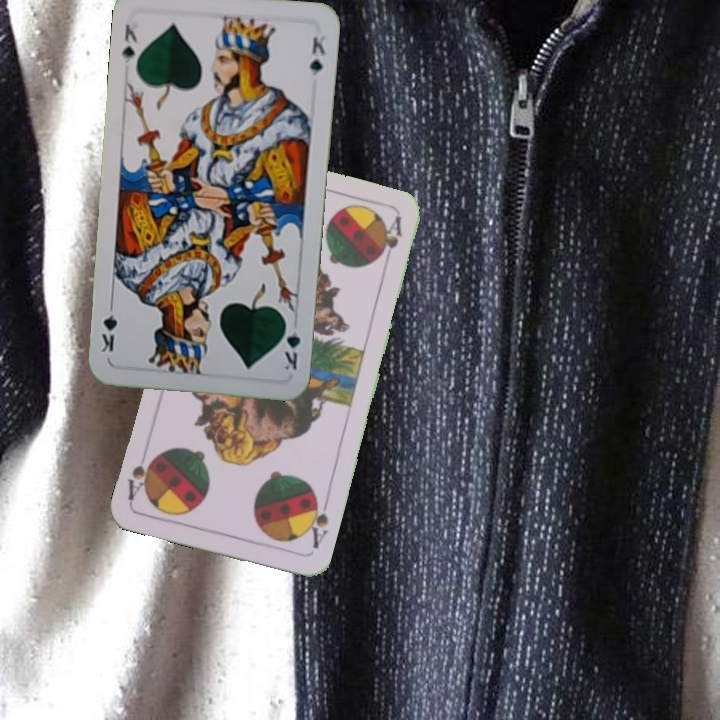GK: (279, 316, 304, 373), (118, 19, 139, 66)
SA: (301, 493, 331, 551)
